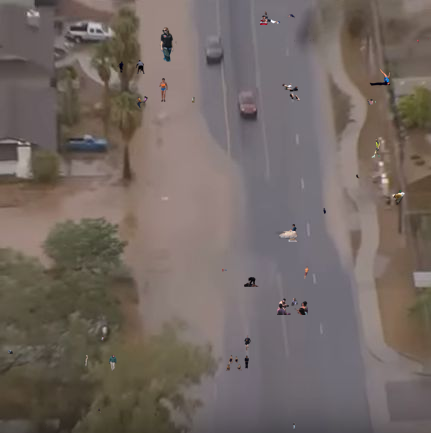Human: (282, 83, 312, 101), (159, 27, 174, 63), (84, 355, 117, 371), (277, 298, 308, 315), (270, 224, 299, 242), (260, 11, 295, 25), (369, 68, 391, 86), (117, 60, 145, 74), (226, 355, 249, 371), (159, 78, 168, 102), (371, 138, 381, 158), (392, 190, 405, 205), (135, 96, 148, 109), (244, 277, 259, 287), (244, 335, 251, 352), (294, 38, 314, 43), (417, 37, 429, 44), (304, 266, 309, 279), (366, 99, 376, 105), (44, 421, 47, 430), (293, 422, 296, 430), (120, 156, 123, 164), (101, 335, 105, 341), (192, 96, 195, 103), (97, 408, 101, 413), (222, 268, 227, 272), (356, 174, 360, 179), (8, 350, 13, 354), (37, 268, 40, 274), (323, 208, 326, 214), (175, 39, 178, 45)
